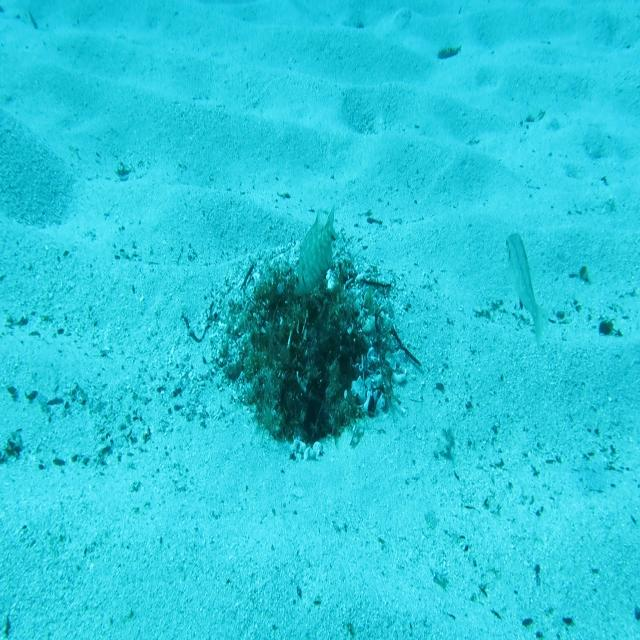NIP_CORE: (293, 199, 341, 301)
core_nest: (281, 287, 329, 321)
female: (504, 230, 552, 359)
nest: (203, 227, 412, 467)
vegetation: (436, 42, 464, 59)
